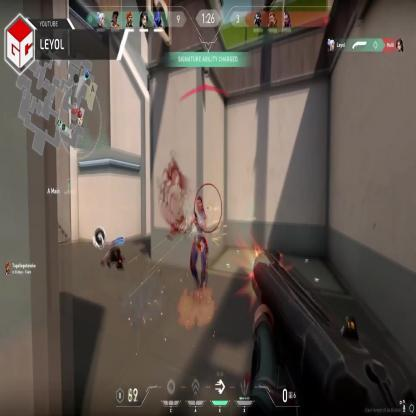enemy: (188, 198, 212, 302)
enemy_head: (197, 198, 202, 212)
